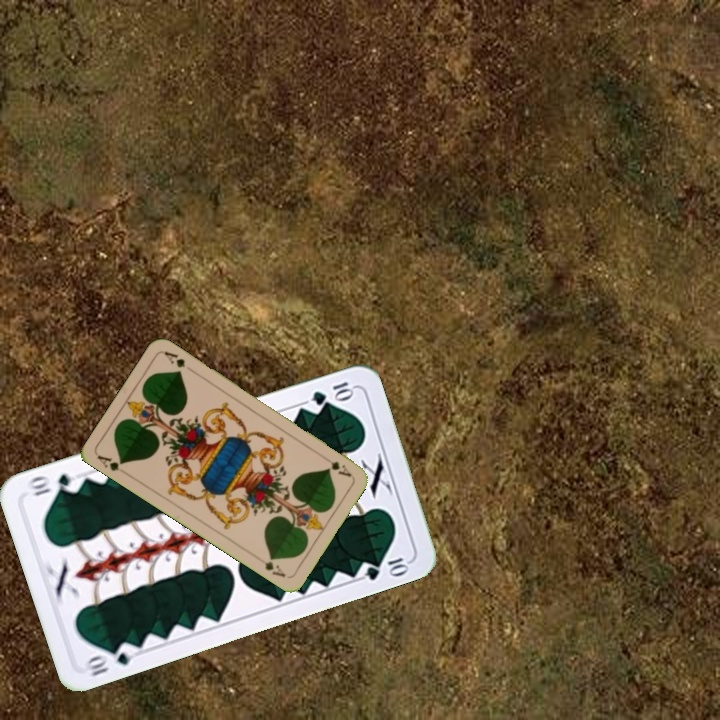G10: (82, 639, 140, 679), (307, 377, 356, 408)
GA: (93, 451, 127, 474), (326, 457, 354, 480)
